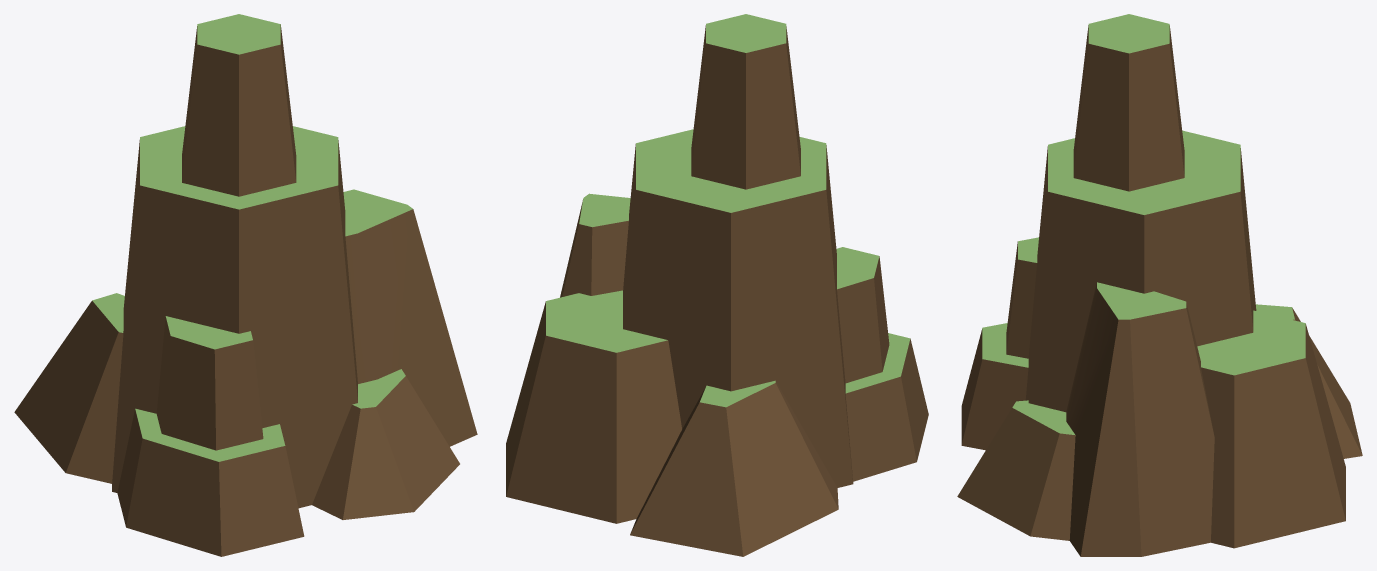
Rendered from rock-tall-b.glb.
3 renders of one model, left to right at view 1: azimuth 30°, elevation 25°; view 2: azimuth 150°, elevation 25°; view 3: azimuth 270°, elevation 25°, orthographic. The views are drawn at different scales.
Parts seen in each view (by area): view 1: rock_tallB; view 2: rock_tallB; view 3: rock_tallB.
Boxes of the visible parts, left/top/right/bottom form: rock_tallB: left=14, top=14, right=477, bottom=556; rock_tallB: left=506, top=14, right=928, bottom=556; rock_tallB: left=957, top=14, right=1362, bottom=556.
Size of the model in its own units: 0.7355 by 0.85 by 0.7406.
